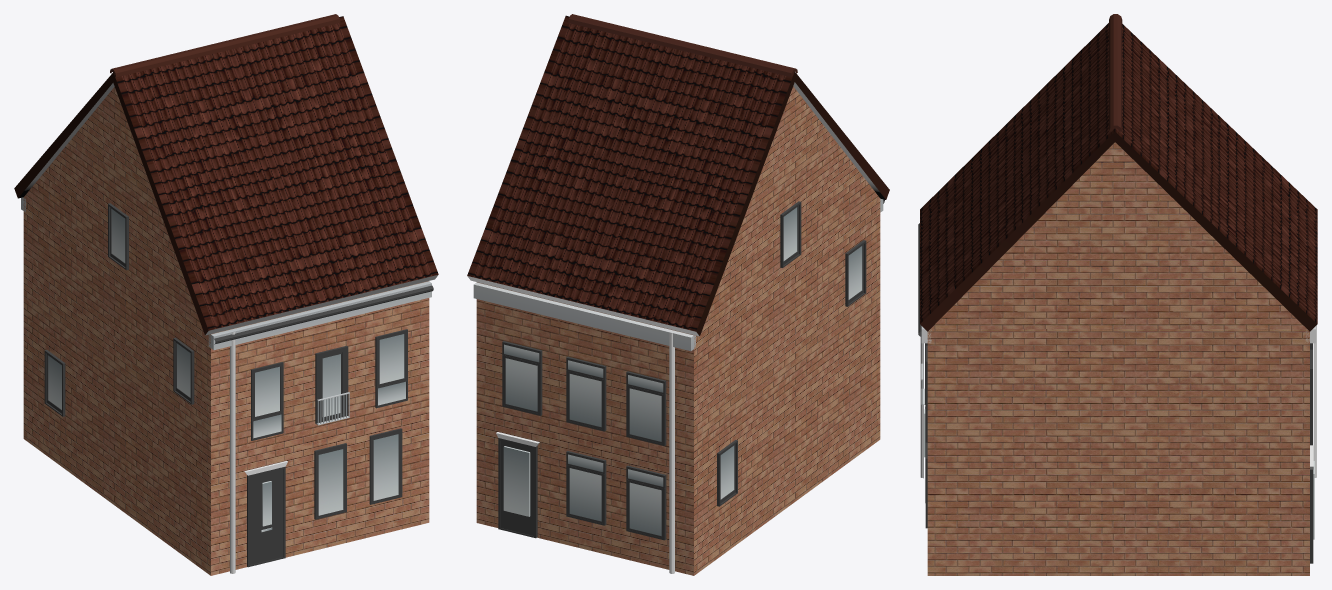
File: It_Tek_36.fbx
3 views of the same model, side by side, from view 1: azimuth 30°, elevation 25°; view 2: azimuth 150°, elevation 25°; view 3: azimuth 270°, elevation 25° (orthographic). The views are drawn at different scales.
Parts seen in each view (by area): view 1: It_Tek_36; view 2: It_Tek_36; view 3: It_Tek_36.
Part boxes in pixels (x1,y1,x2,y2): It_Tek_36: (14,14,438,575); It_Tek_36: (467,14,889,575); It_Tek_36: (918,14,1317,575).
Bounding box in the file's own units: 637 × 1167 × 937.
